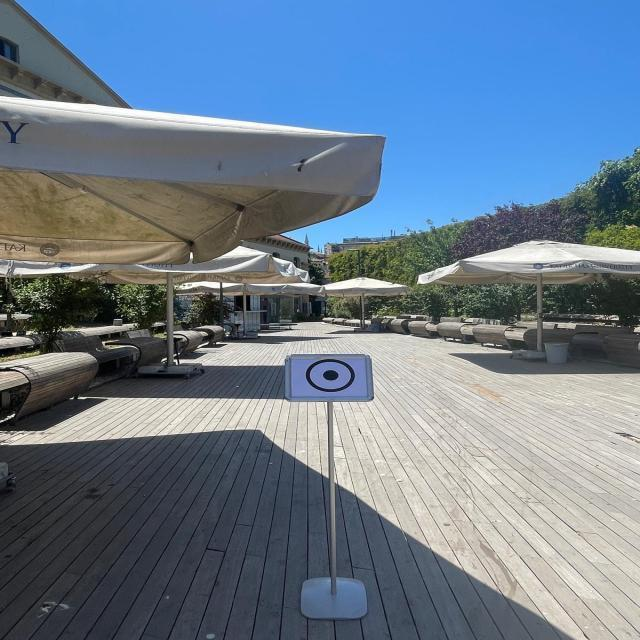Target: (275, 340, 386, 412)
inner: (318, 363, 342, 387)
